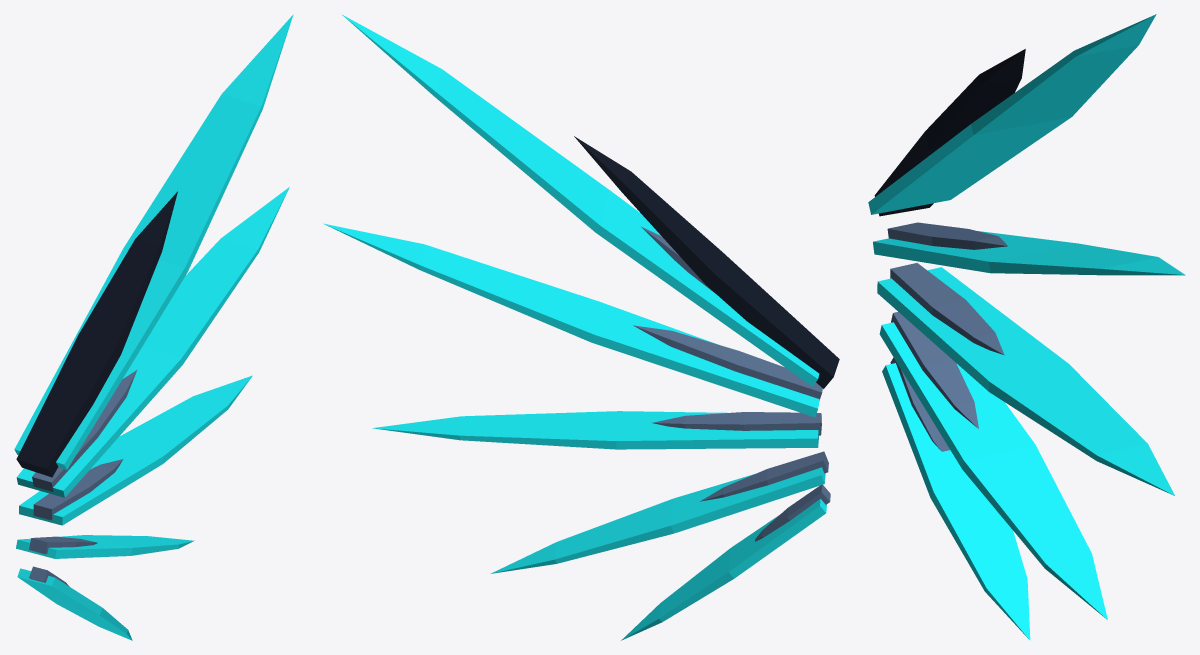
The model's file is Skin_CyberWingL.obj.
3 renders of one model, left to right at view 1: azimuth 30°, elevation 25°; view 2: azimuth 150°, elevation 25°; view 3: azimuth 270°, elevation 25°, orthographic. The views are drawn at different scales.
Parts seen in each view (by area): view 1: Skin_CyberWingL_EmissiveCore, Skin_CyberWingL_BaseArmor, Skin_CyberWingL_TrimMetal; view 2: Skin_CyberWingL_EmissiveCore, Skin_CyberWingL_BaseArmor, Skin_CyberWingL_TrimMetal; view 3: Skin_CyberWingL_EmissiveCore, Skin_CyberWingL_TrimMetal, Skin_CyberWingL_BaseArmor.
Part boxes in pixels (<box>): Skin_CyberWingL_EmissiveCore: <box>14,14,293,640</box>; Skin_CyberWingL_BaseArmor: <box>16,191,177,477</box>; Skin_CyberWingL_TrimMetal: <box>29,370,136,586</box>; Skin_CyberWingL_EmissiveCore: <box>323,14,826,640</box>; Skin_CyberWingL_BaseArmor: <box>574,136,839,388</box>; Skin_CyberWingL_TrimMetal: <box>633,226,830,541</box>; Skin_CyberWingL_EmissiveCore: <box>868,14,1185,640</box>; Skin_CyberWingL_TrimMetal: <box>887,222,1007,451</box>; Skin_CyberWingL_BaseArmor: <box>874,49,1025,216</box>.
Bounding box in the file's own units: 0.8222 × 1.17 × 0.4372.
